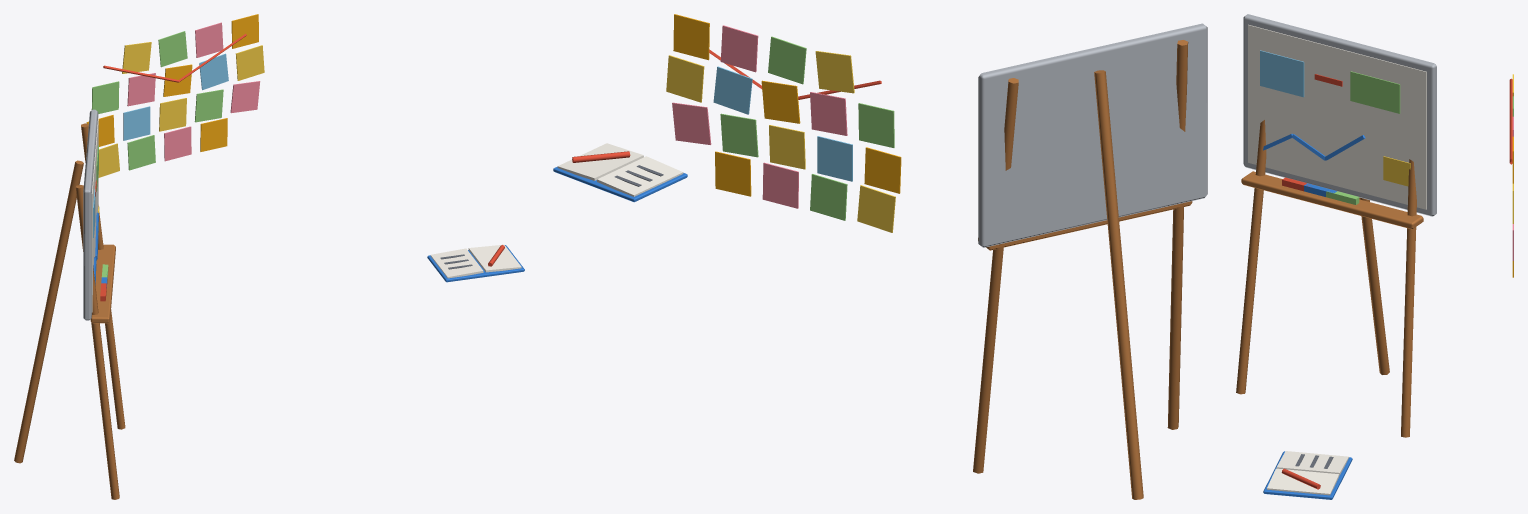
File: station_intake_ausstattung_1_3.glb
3 renders of one model, left to right at view 1: azimuth 30°, elevation 25°; view 2: azimuth 150°, elevation 25°; view 3: azimuth 270°, elevation 25°, orthographic. The views are drawn at different scales.
Visible parts, largest first — view 1: station_intake_ausstattung_1_3; view 2: station_intake_ausstattung_1_3; view 3: station_intake_ausstattung_1_3.
Boxes of the visible parts, x1,y1,x2,y2 form: station_intake_ausstattung_1_3: (14, 14, 524, 499); station_intake_ausstattung_1_3: (553, 14, 1207, 499); station_intake_ausstattung_1_3: (1236, 14, 1513, 499).
Size of the model in its own units: 1.94 by 1.33 by 0.8592.
